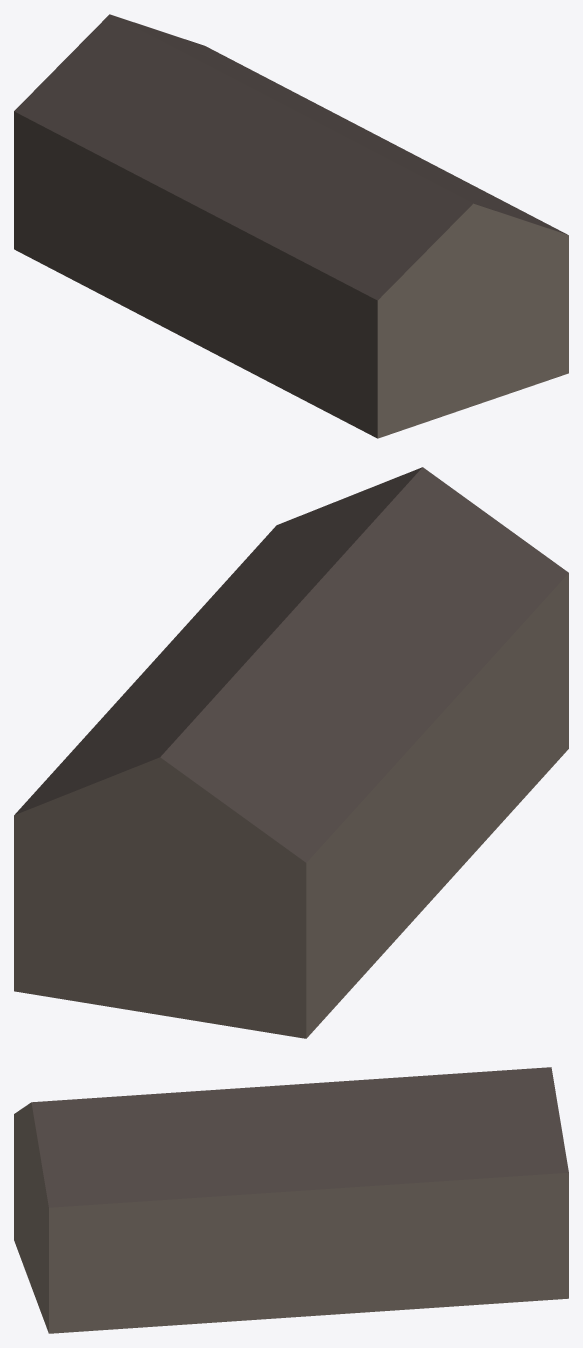
3 views of the same model, one above another, from view 1: azimuth 30°, elevation 25°; view 2: azimuth 150°, elevation 25°; view 3: azimuth 270°, elevation 25° (orthographic). The views are drawn at different scales.
Parts seen in each view (by area): view 1: HP-w1331503653; view 2: HP-w1331503653; view 3: HP-w1331503653.
Part boxes in pixels (<box>): HP-w1331503653: <box>14,14,568,438</box>; HP-w1331503653: <box>14,467,568,1038</box>; HP-w1331503653: <box>14,1067,568,1333</box>.
Bounding box in the file's own units: 13.15 × 8.8 × 23.95.
